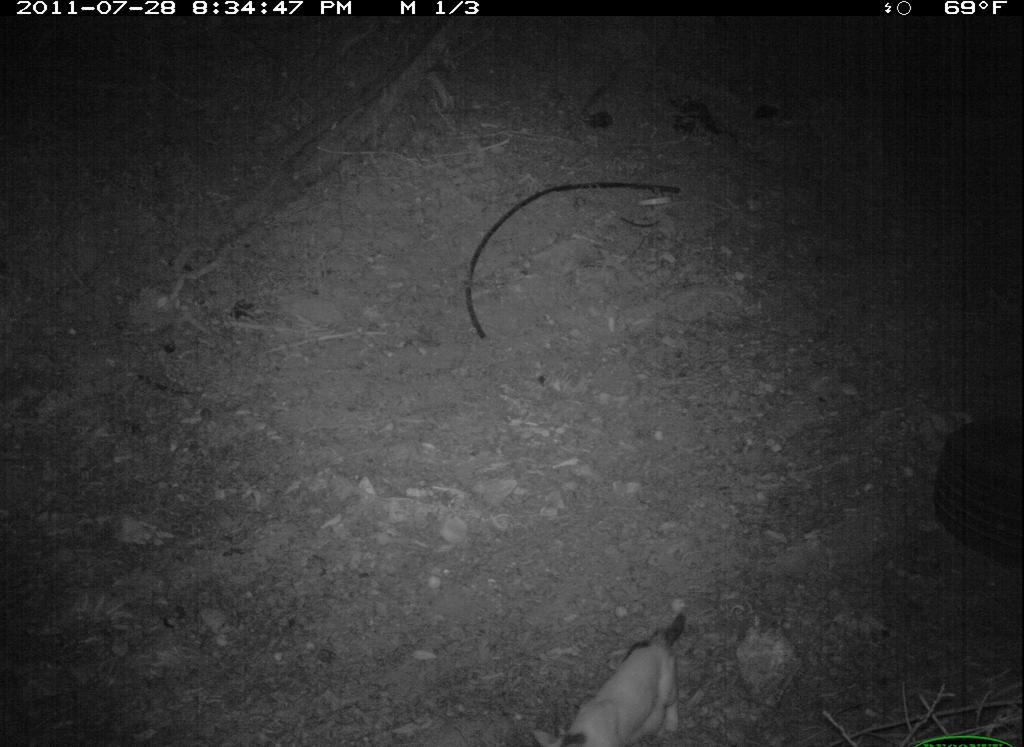cat: (519, 602, 705, 747)
